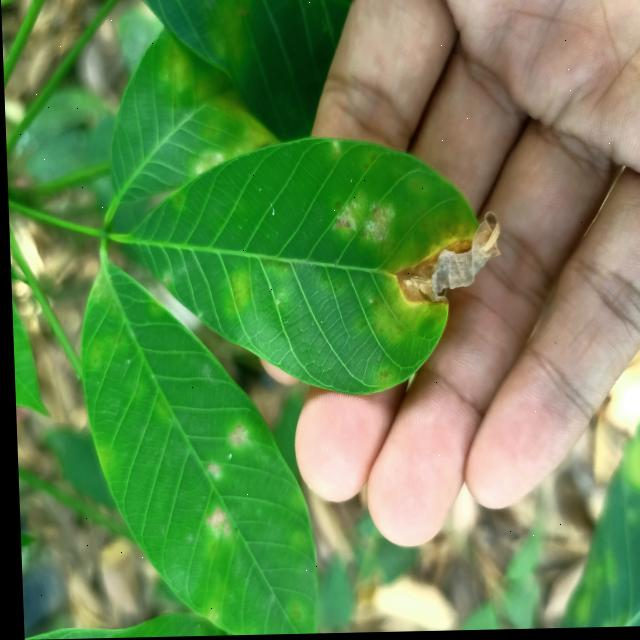Leaf-Blight: (389, 214, 500, 310)
